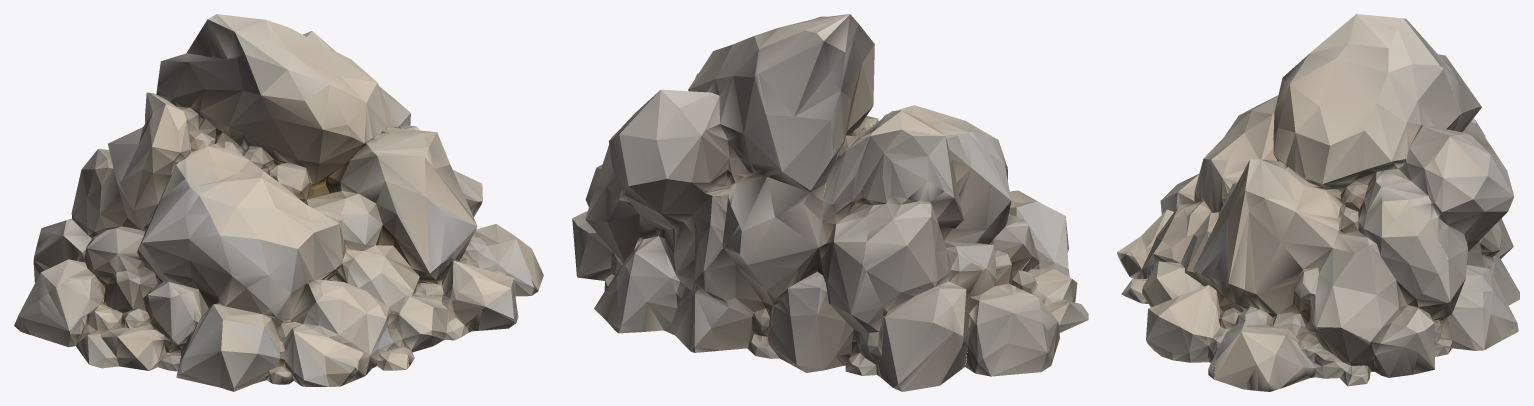
Rendered from building-ruins-limestone.glb.
3 views of the same model, side by side, from view 1: azimuth 30°, elevation 25°; view 2: azimuth 150°, elevation 25°; view 3: azimuth 270°, elevation 25° (orthographic). The views are drawn at different scales.
Visible parts, largest first — view 1: 0_ruins-limestone; view 2: 0_ruins-limestone; view 3: 0_ruins-limestone.
Boxes of the visible parts, left/top/right/bottom form: 0_ruins-limestone: left=14, top=14, right=543, bottom=391; 0_ruins-limestone: left=572, top=14, right=1088, bottom=391; 0_ruins-limestone: left=1117, top=14, right=1519, bottom=391.
Bounding box in the file's own units: 1.6 × 0.883 × 1.26.
